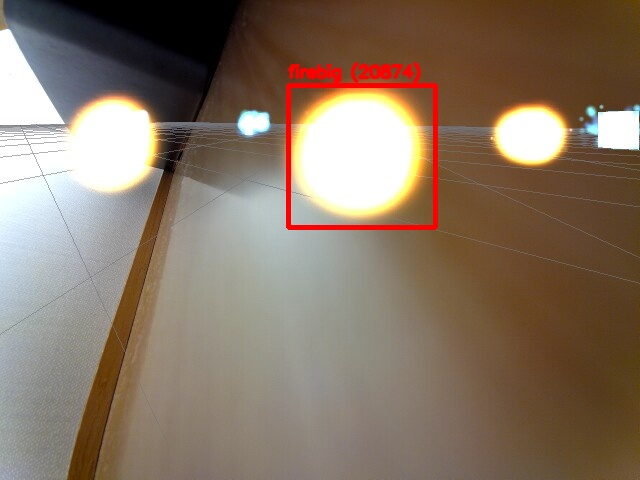firebig: (288, 85, 435, 227)
